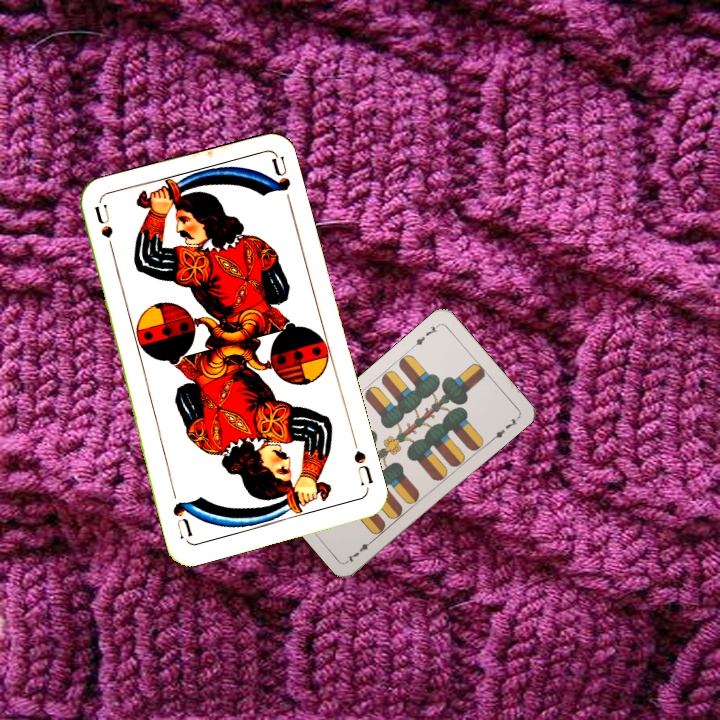E7: (343, 534, 377, 565), (408, 320, 441, 351)
SU: (90, 201, 118, 260), (349, 446, 376, 492)
